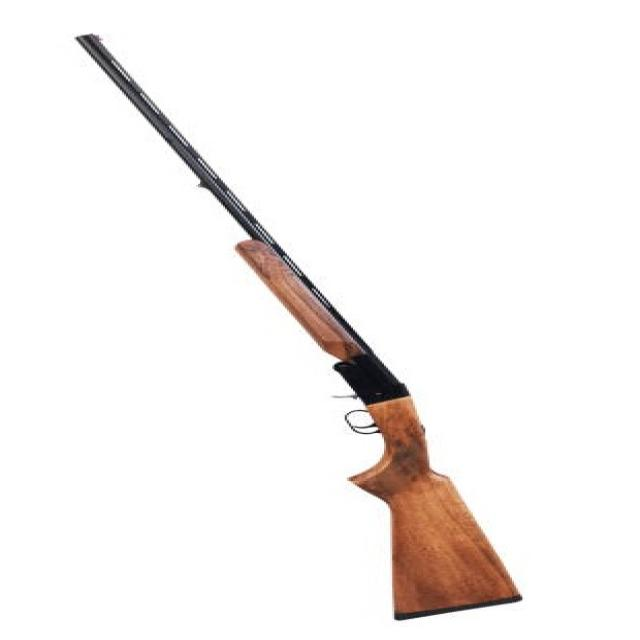rifle: (50, 31, 551, 628)
